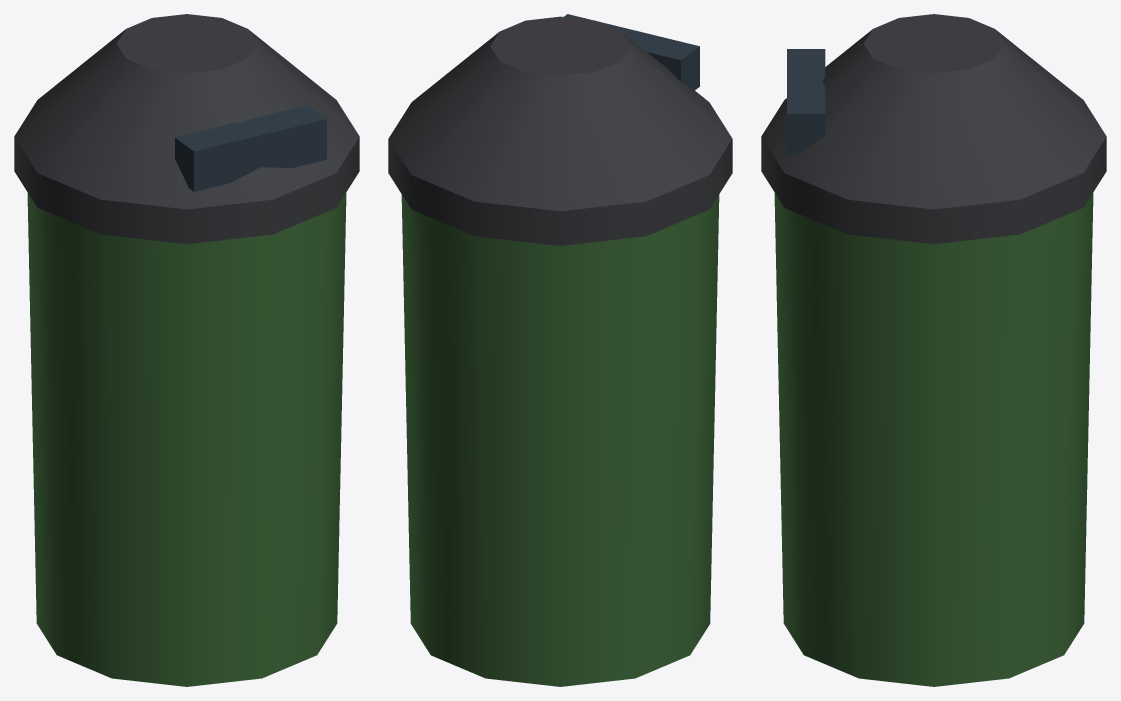
The model's file is prop_bin.glb.
3 views of the same model, side by side, from view 1: azimuth 30°, elevation 25°; view 2: azimuth 150°, elevation 25°; view 3: azimuth 270°, elevation 25° (orthographic).
Parts seen in each view (by area): view 1: prop.bin; view 2: prop.bin; view 3: prop.bin.
Part boxes in pixels (<box>): prop.bin: <box>14,14,359,686</box>; prop.bin: <box>388,14,732,686</box>; prop.bin: <box>761,14,1106,686</box>.
Bounding box in the file's own units: 0.54 × 1 × 0.54.
